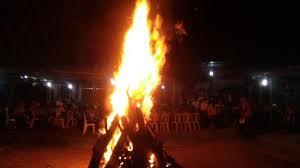Fire: (99, 1, 169, 122)
